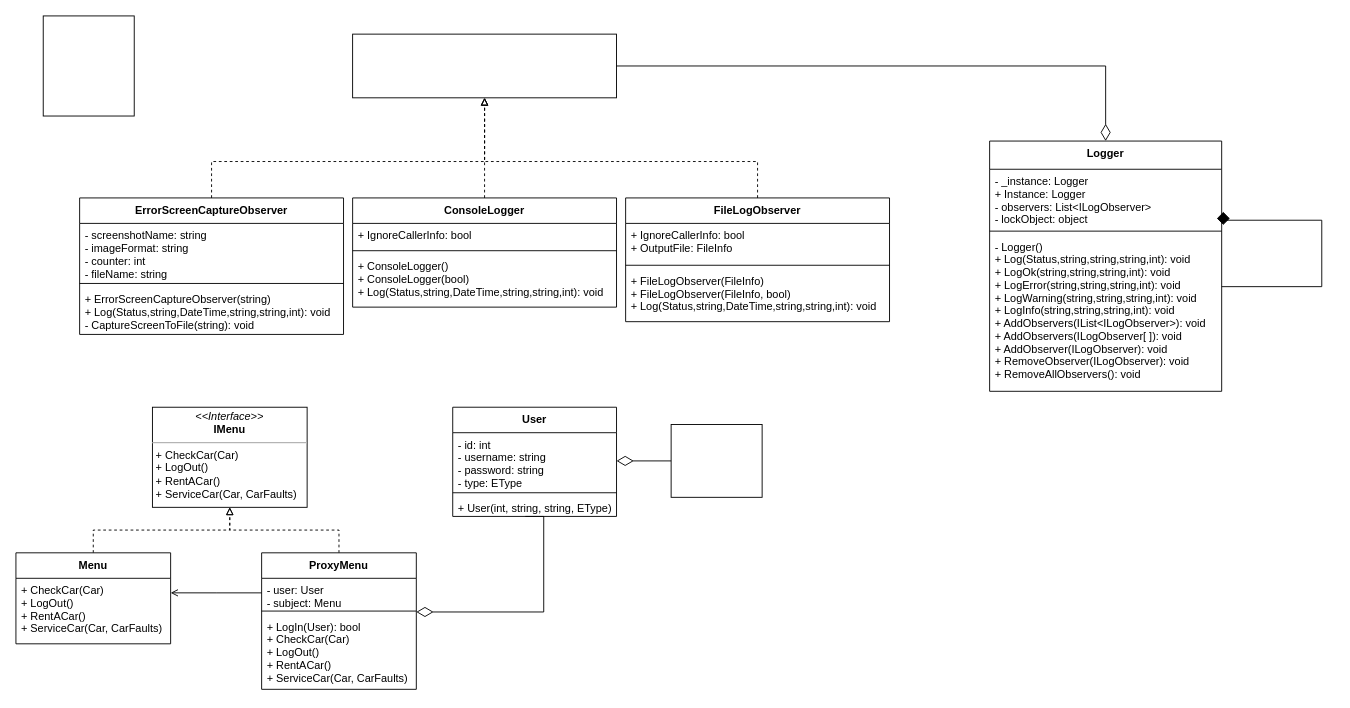
This 1350x708 diagram has some shape labels left out. Each missing label, with the centre of its shape:
<<enumeration>> EType CLIENT ADMIN: the point at 716,460
<<enumeration>> Status Ok Error Warning Info: the point at 88,65
<<Interface>> ILogObserver + Log(Status,string,DateTime,string,string,int): void: the point at 484,65
